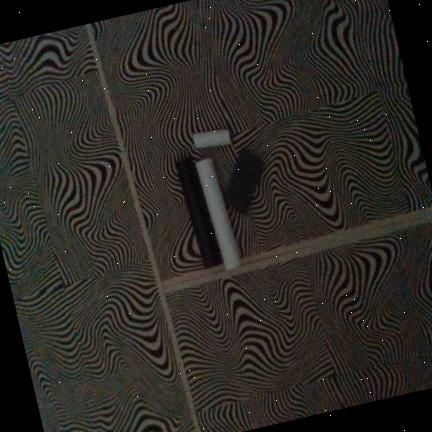Cilindro: (176, 158, 224, 268), (195, 157, 241, 271)
Paralelepipedo: (226, 149, 264, 214), (193, 129, 231, 148)
